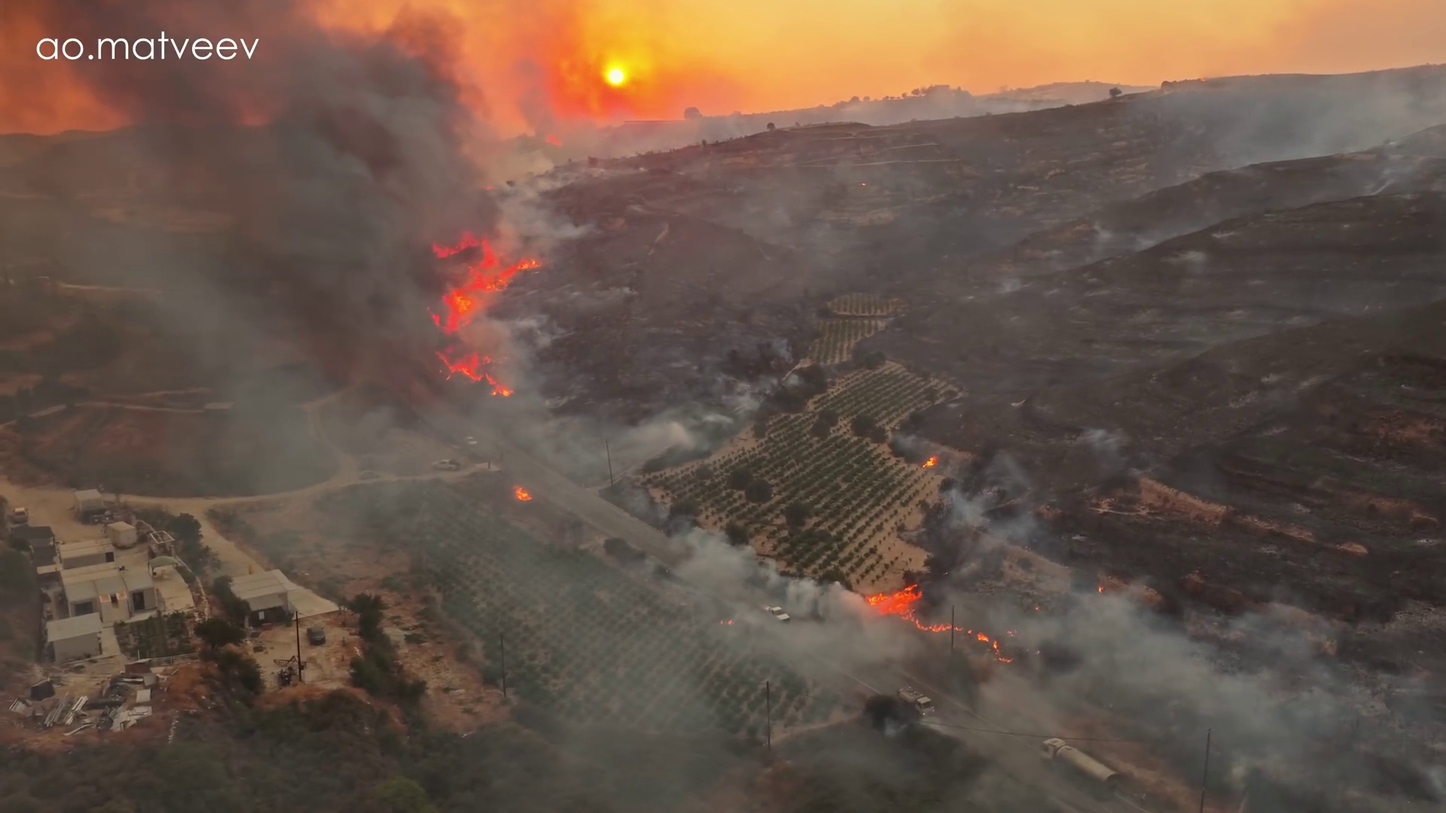forest_fire: (865, 584, 1012, 662), (432, 232, 540, 335), (435, 340, 512, 396), (514, 485, 532, 500), (921, 455, 938, 467)
